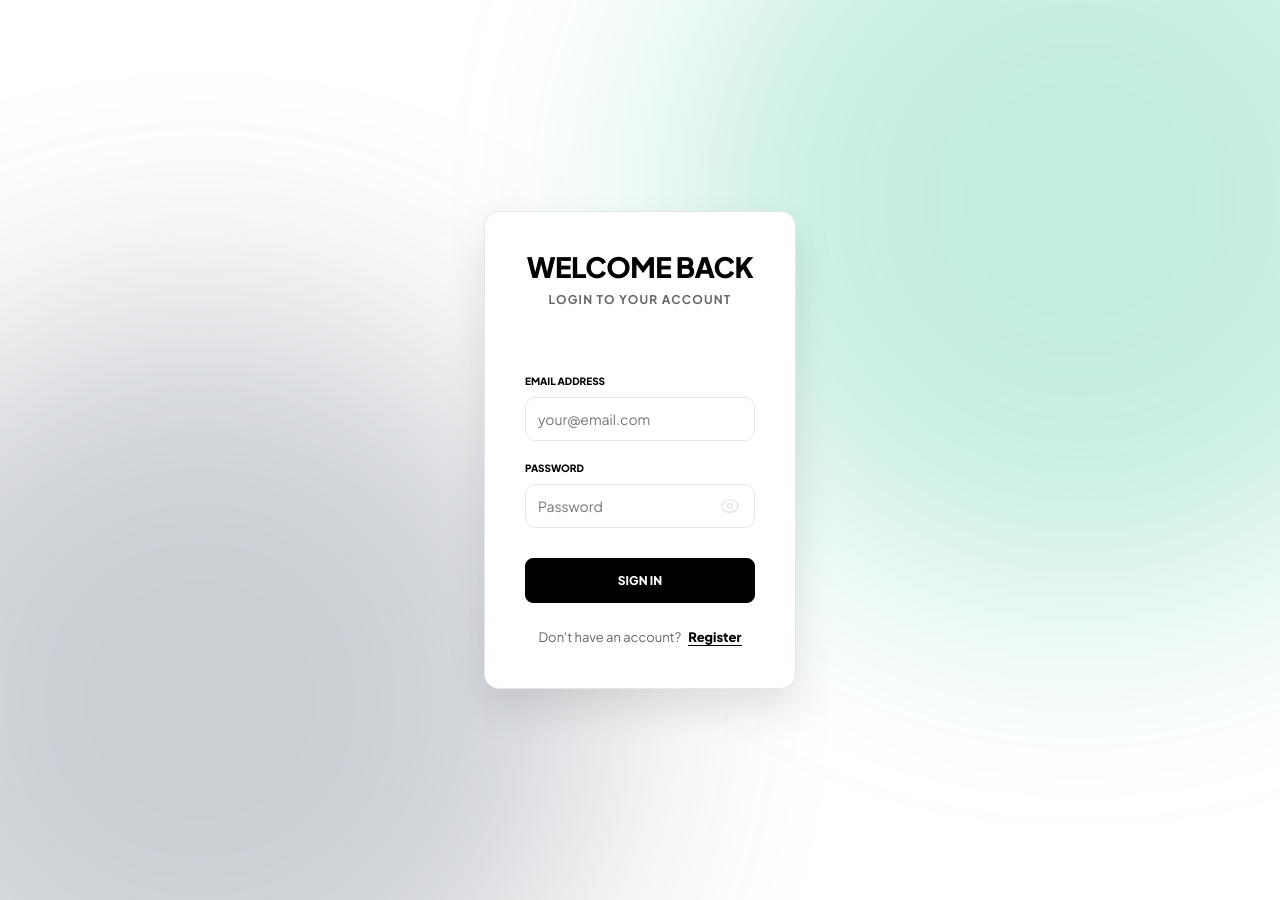
Test: Login › hibás bejelentkezésnél hibaüzenet jelenik meg
Type "wrong@test.com" into the field with placeholder "your@email.com". click: (640, 419)
box: top-left (525, 397), bottom-right (755, 441)
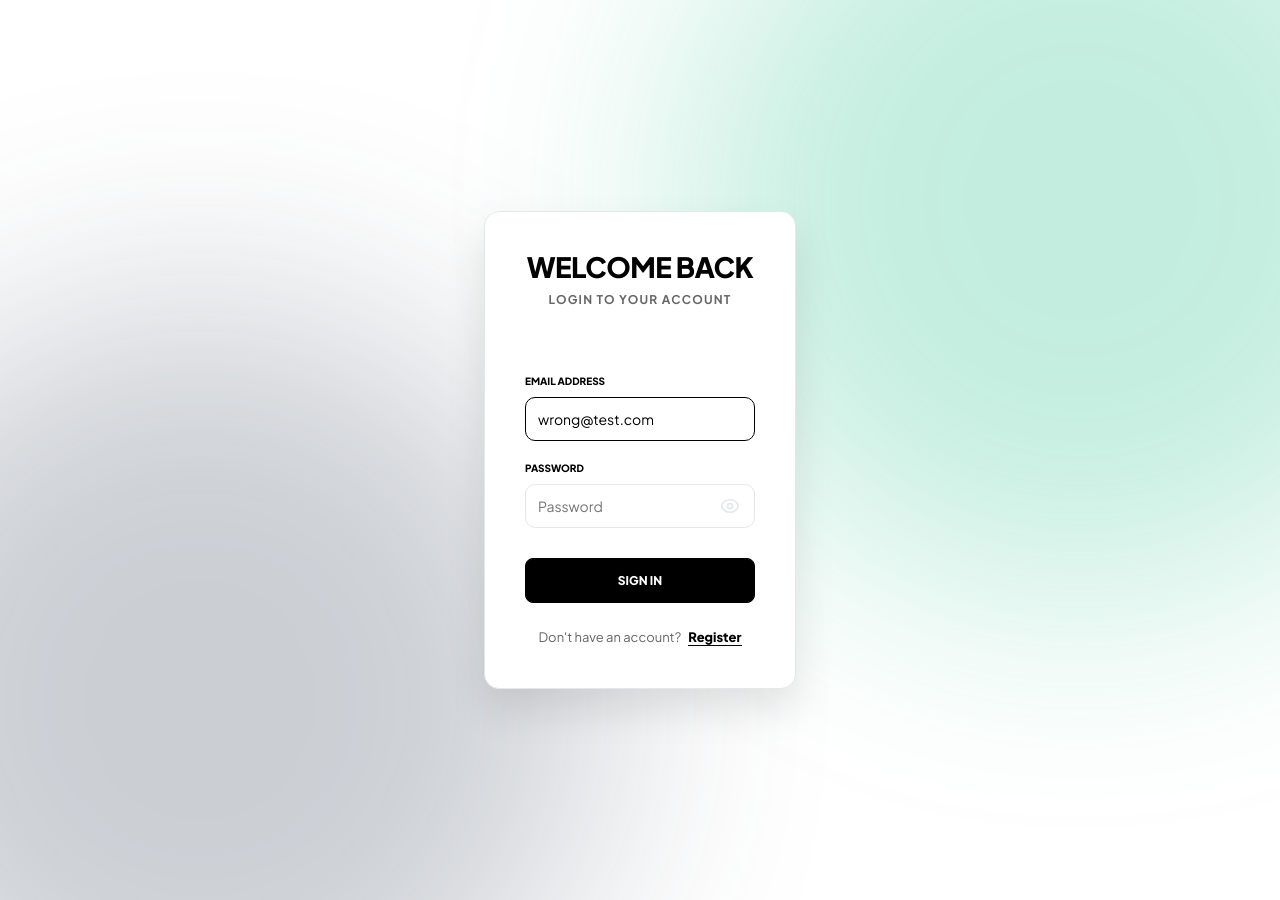
Type "wrongpass" into the password field with placeholder "Password". click: (640, 506)
box: top-left (525, 484), bottom-right (755, 528)
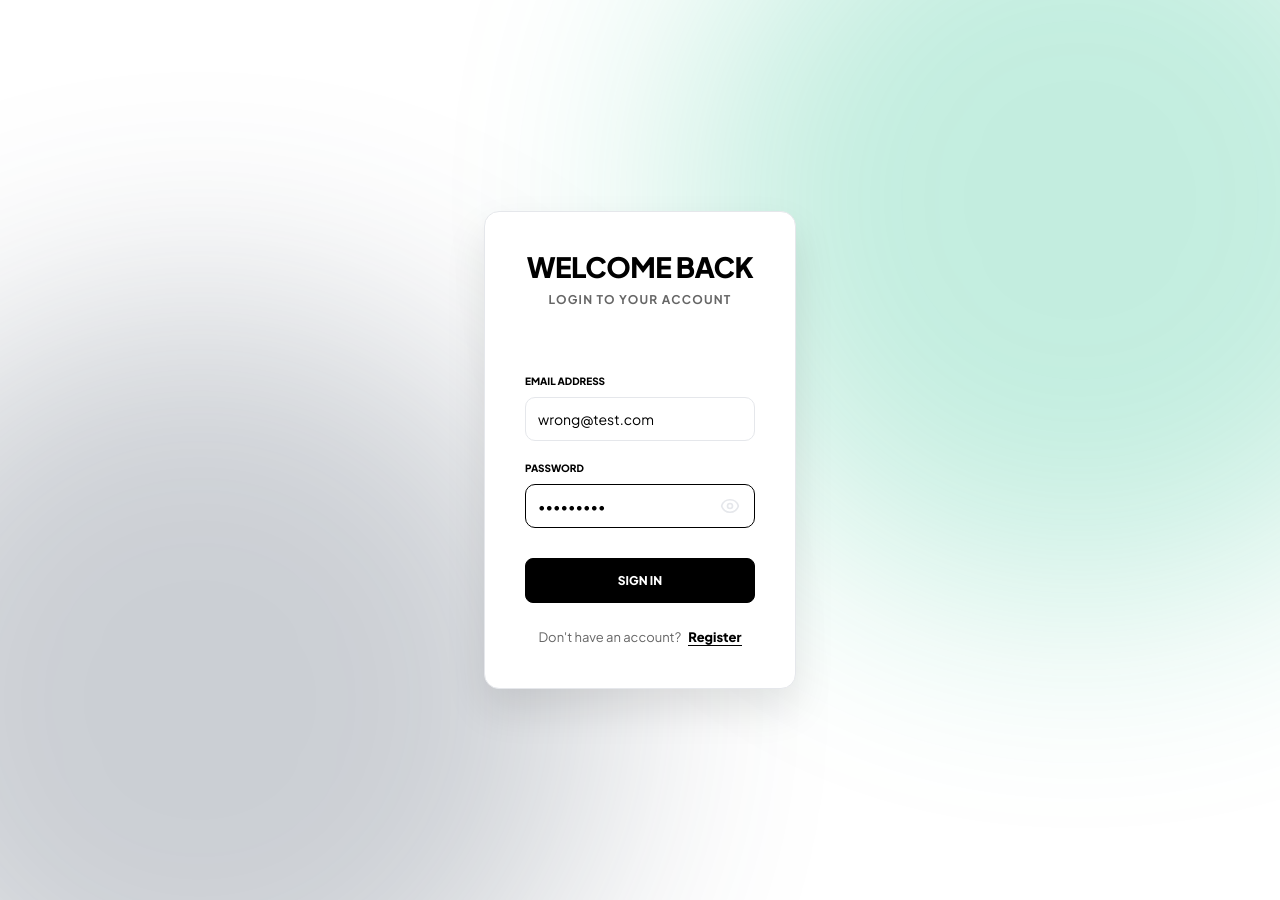
Click the button "Sign In". click: (640, 581)
box: top-left (525, 558), bottom-right (755, 603)
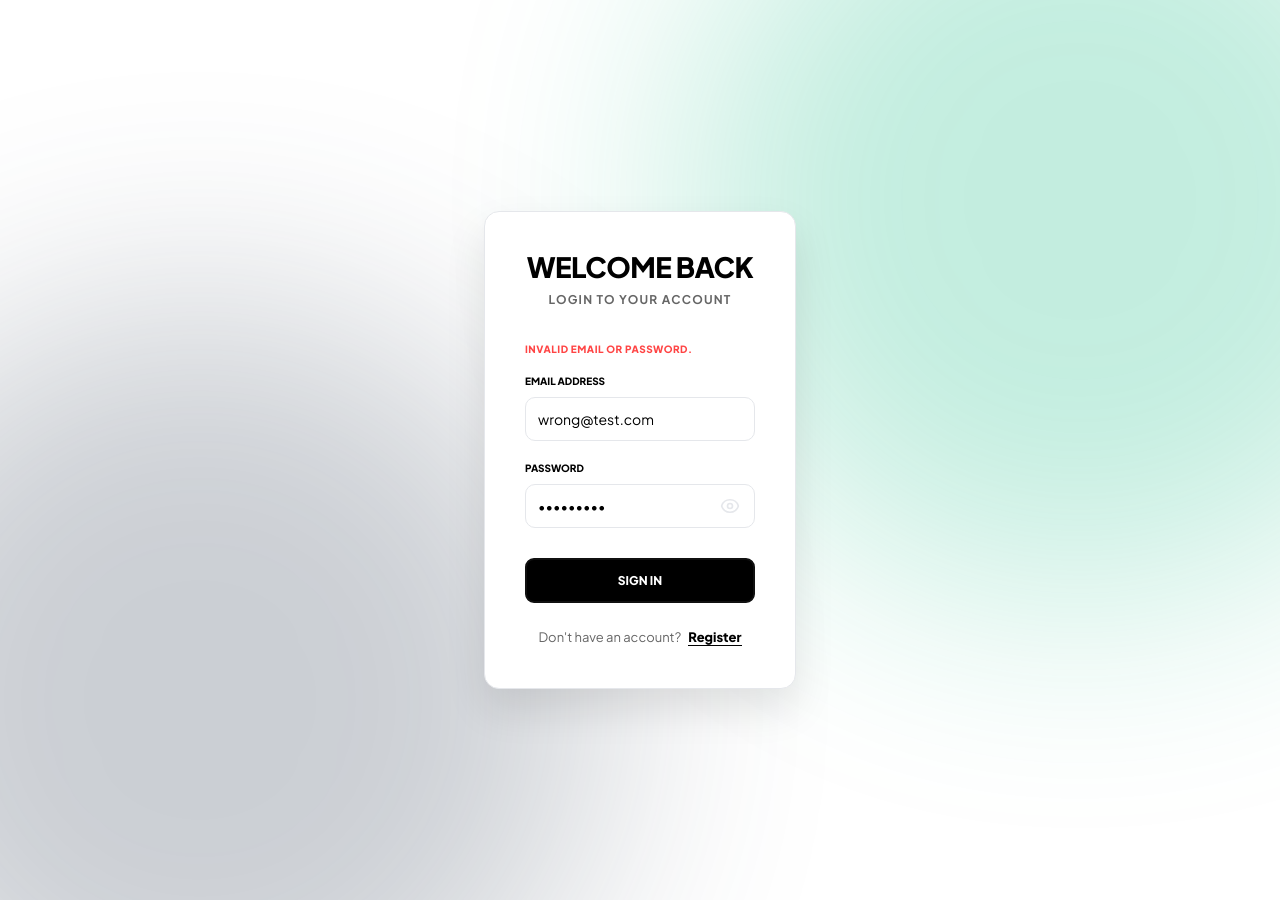
Check: the text "Invalid email or password." is shown, box top-left (525, 342), bottom-right (693, 357)
